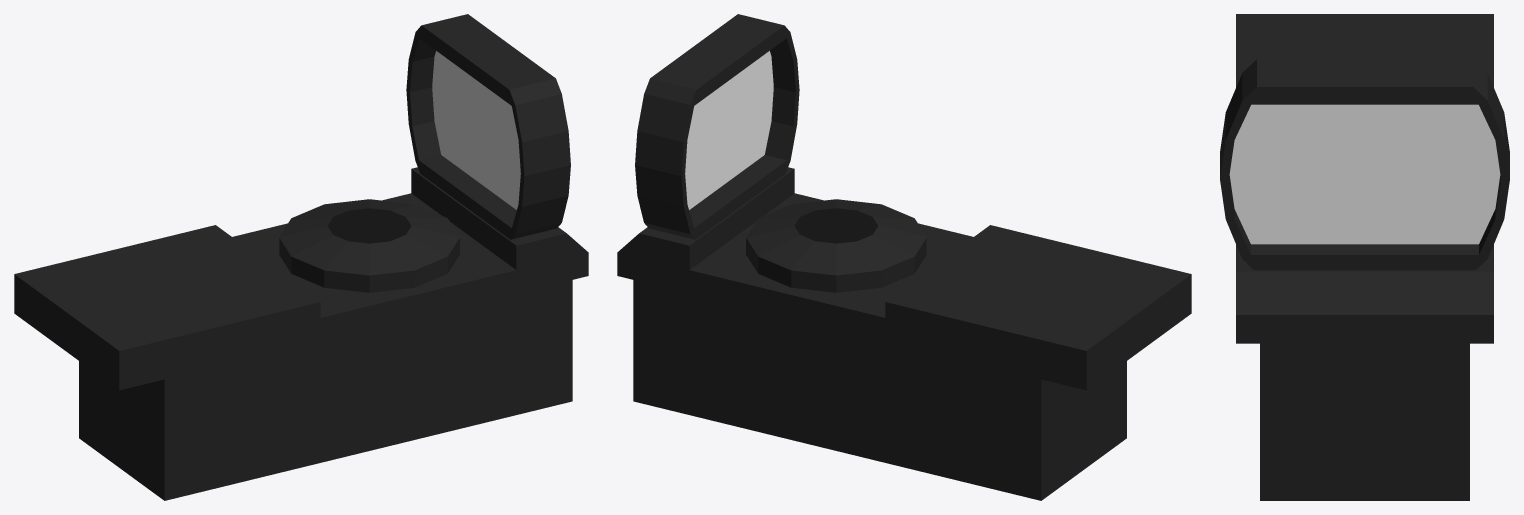
File: Accessories_Red_Dot_B_V3.FBX
The picture shows the model from 3 angles, left to right: view 1: azimuth 30°, elevation 25°; view 2: azimuth 150°, elevation 25°; view 3: azimuth 270°, elevation 25°; orthographic projection. The views are drawn at different scales.
Parts seen in each view (by area): view 1: Accessories_Red_Dot_B_V3; view 2: Accessories_Red_Dot_B_V3; view 3: Accessories_Red_Dot_B_V3.
Boxes of the visible parts, box(x1,y1,x2,y2) form: Accessories_Red_Dot_B_V3: box(14, 14, 588, 500); Accessories_Red_Dot_B_V3: box(617, 14, 1191, 500); Accessories_Red_Dot_B_V3: box(1220, 14, 1509, 500).
Size of the model in its own units: 53.38 by 35.69 by 23.26.
